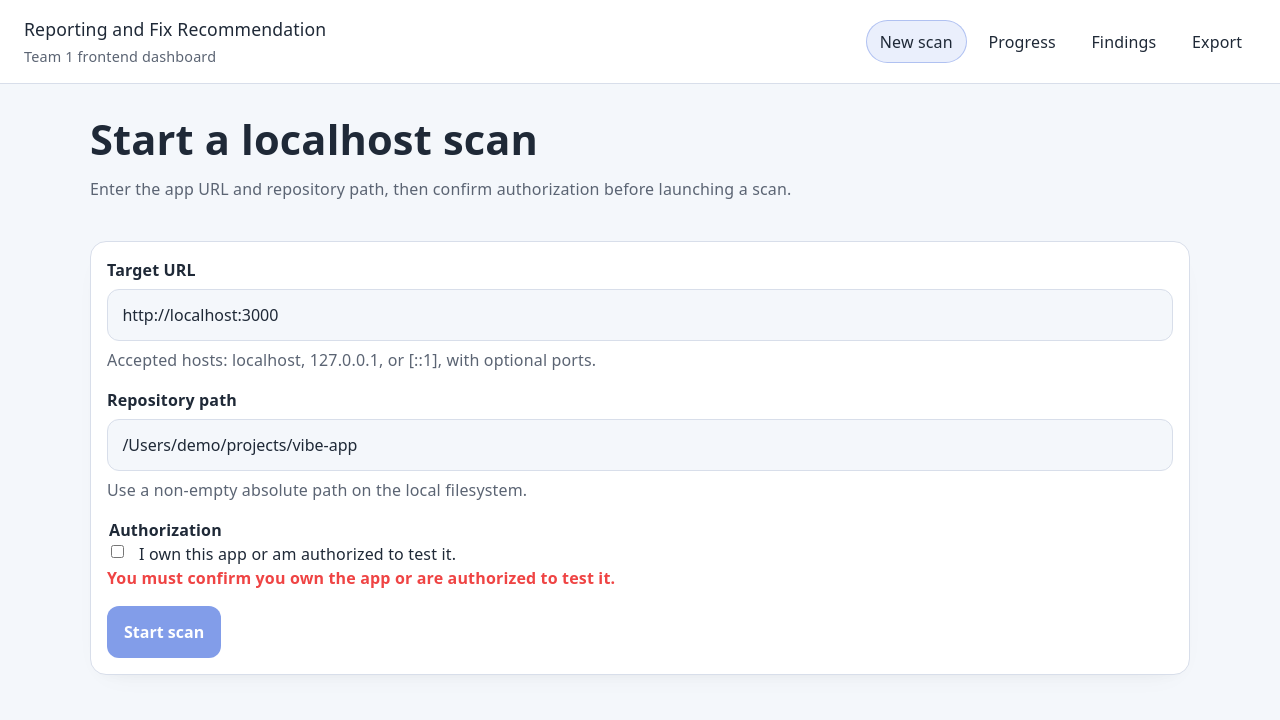
Test: NewScanPage › keeps start scan disabled until authorization is checked
Check: the button "Start scan" is disabled, box top-left (107, 606), bottom-right (221, 658)
Click the checkbox labelled "I own this app or am authorized to test it." at (118, 551), box top-left (111, 545), bottom-right (124, 558)
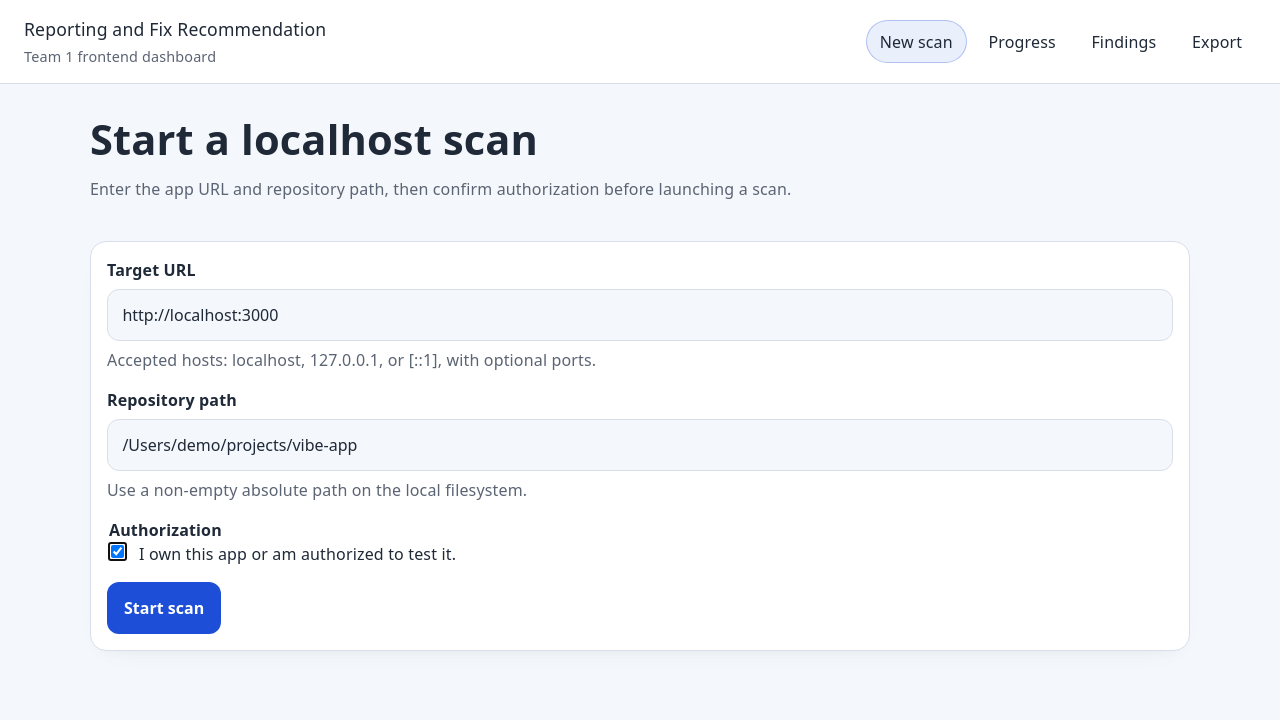
Check: the button "Start scan" is enabled, box top-left (107, 582), bottom-right (221, 634)
